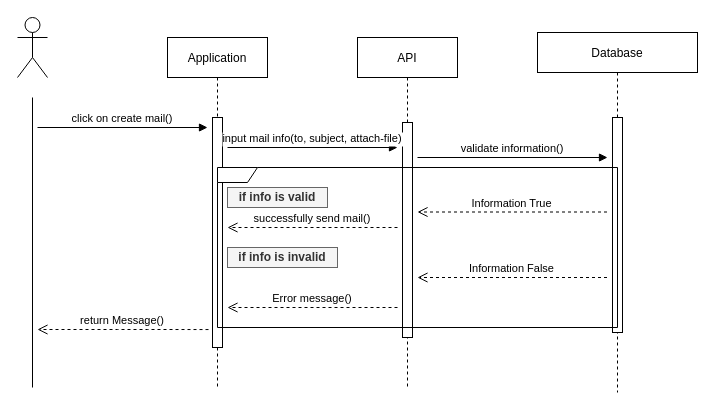
This 715x410 diagram has some shape labels left out. Here are the shapes that lost their labels. From the top down, the box of each, then its label:
(16, 16, 48, 78): User
(216, 166, 618, 328): alt
